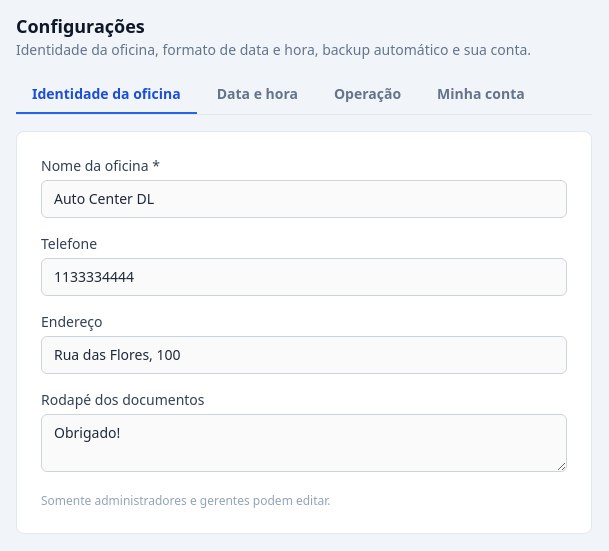
SettingsPage data/time tab (2026-09-18) › blocks editing for ATTENDANT on the data/time tab
Click the tab "Data e hora".
click(257, 95)  # box [201,76,314,114]
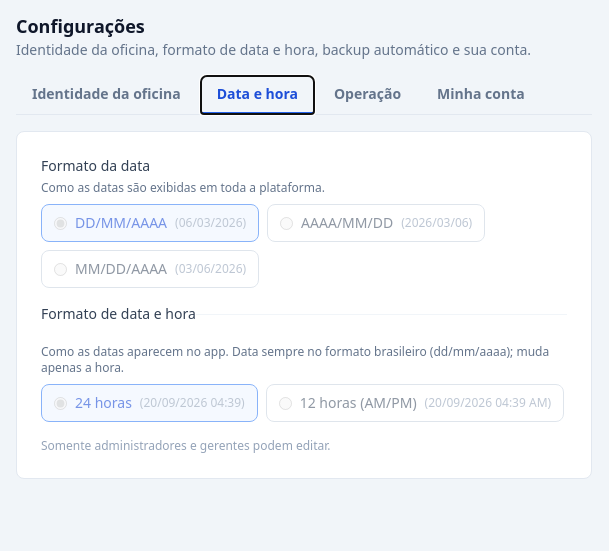
Check: the number of radio buttons is 5, box [54,216,67,230]; [280,216,293,230]; [54,262,67,276]; [54,396,67,410]; [279,396,292,410]
Check: the radio button labelled "DD/MM/AAAA (06/03/2026)" is disabled, box [54,216,67,230]
Check: the radio button labelled "AAAA/MM/DD (2026/03/06)" is disabled, box [280,216,293,230]
